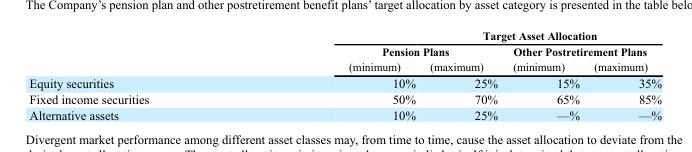table: (28, 29, 661, 121)
table column: (28, 29, 248, 121), (248, 29, 422, 121), (422, 29, 504, 121), (504, 29, 586, 121), (586, 29, 661, 121)
table column header: (28, 29, 661, 74)
table row: (28, 74, 661, 91), (28, 58, 661, 74), (28, 43, 661, 58), (28, 91, 661, 106), (28, 106, 661, 121), (28, 29, 661, 43)
table spanning cell: (248, 43, 504, 58), (422, 29, 661, 43), (504, 43, 661, 58)
